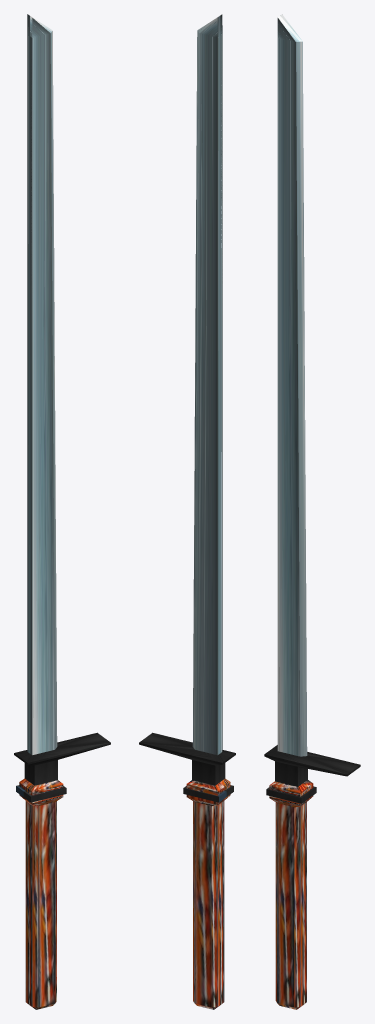
Rendered from Katana.fbx.
3 renders of one model, left to right at view 1: azimuth 30°, elevation 25°; view 2: azimuth 150°, elevation 25°; view 3: azimuth 330°, elevation 25°, orthographic.
Parts seen in each view (by area): view 1: Katana; view 2: Katana; view 3: Katana.
Boxes of the visible parts, x1=… form: Katana: x1=14, y1=14, x2=110, y2=1009; Katana: x1=139, y1=14, x2=235, y2=1009; Katana: x1=264, y1=14, x2=360, y2=1009.
Size of the model in its own units: 672 by 7649 by 208.
